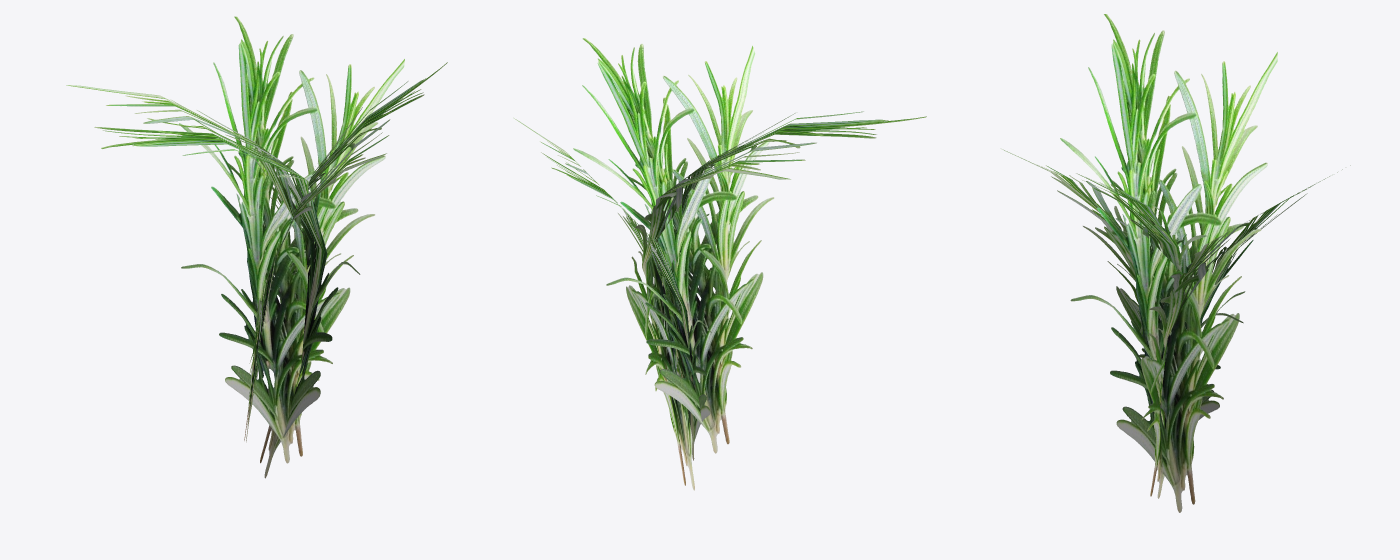
Rendered from romero.fbx.
3 renders of one model, left to right at view 1: azimuth 30°, elevation 25°; view 2: azimuth 150°, elevation 25°; view 3: azimuth 270°, elevation 25°, orthographic. The views are drawn at different scales.
Visible parts, largest first — view 1: romero; view 2: romero; view 3: romero.
Part boxes in pixels (x1=…): romero: x1=66, y1=16, x2=447, y2=478; romero: x1=514, y1=38, x2=926, y2=490; romero: x1=1002, y1=14, x2=1350, y2=512.
Bounding box in the file's own units: 20.43 × 21.85 × 19.03.
